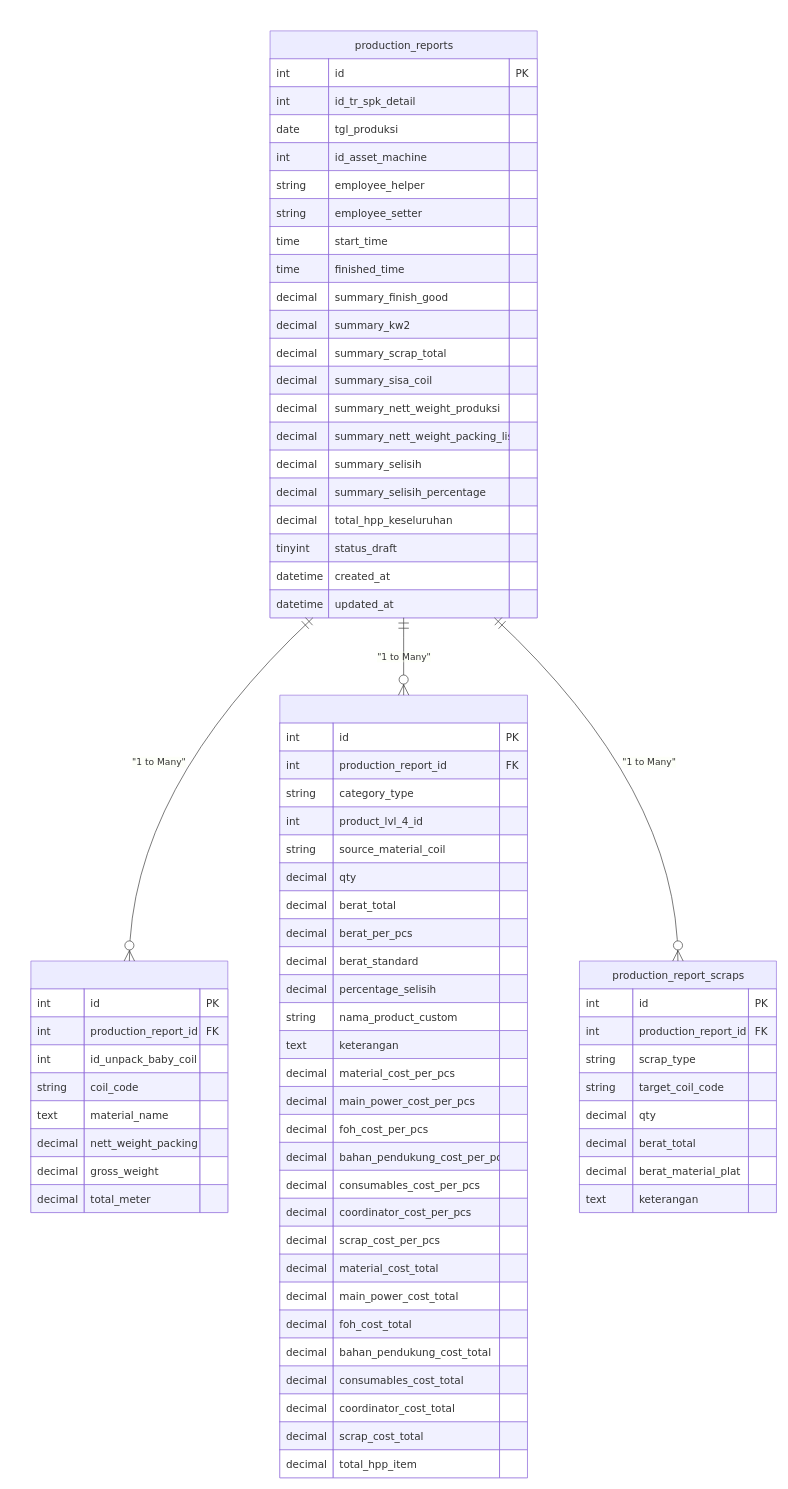
Image size: 788x1489. Some labels were removed from this diagram. Here are the shapes that lost their labels. From the top down, the box of each, then its label:
(30, 960, 228, 1213): production_report_materials
(279, 695, 527, 1478): production_report_items
